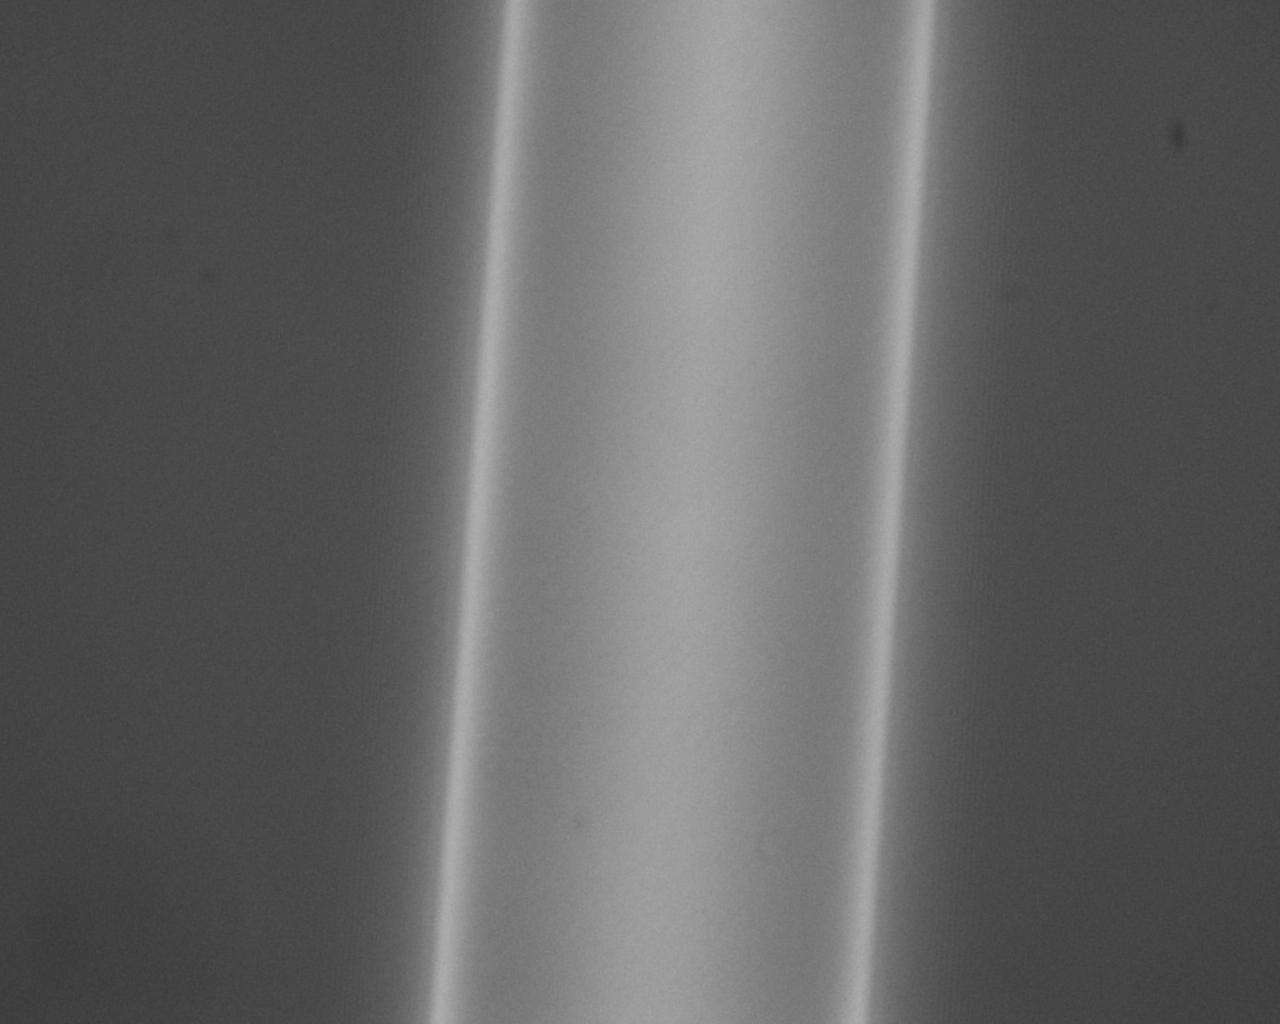fiber: (229, 0, 451, 563), (0, 563, 140, 1024), (581, 563, 707, 1024), (1022, 0, 1120, 563)
